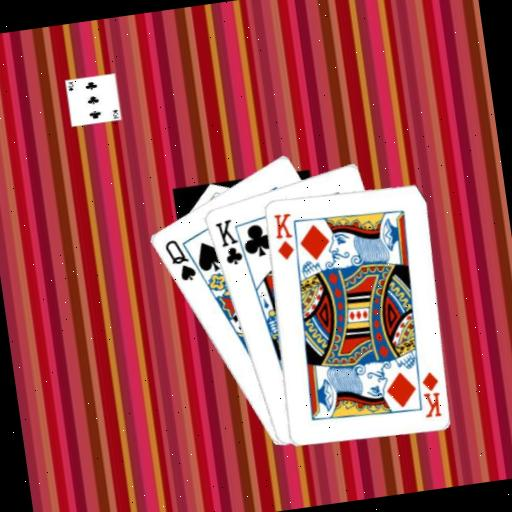KC: (211, 214, 251, 272)
KD: (416, 367, 445, 420), (270, 209, 298, 262)
QS: (161, 234, 199, 286)
